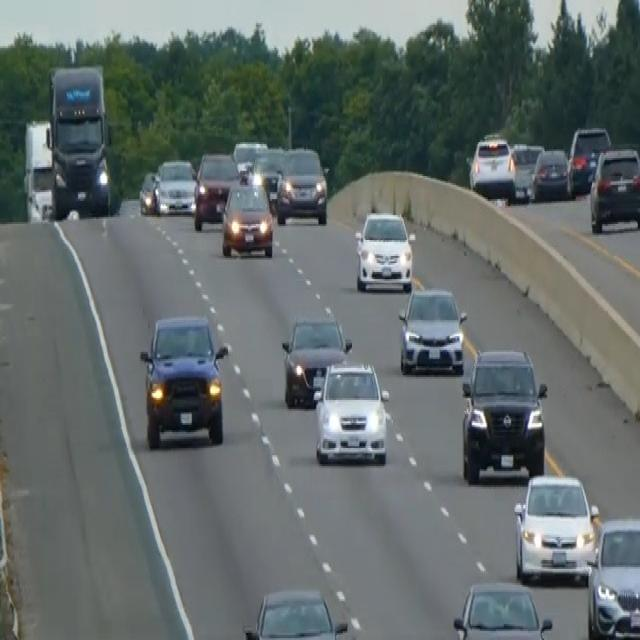car: (139, 311, 229, 450), (460, 345, 548, 483), (513, 471, 600, 585), (312, 359, 390, 466), (280, 313, 352, 407), (586, 516, 639, 638), (397, 285, 467, 375), (452, 578, 553, 638), (242, 585, 350, 638), (354, 208, 414, 292), (589, 144, 639, 233), (275, 144, 328, 226), (221, 180, 273, 258), (192, 150, 241, 230), (468, 133, 516, 201), (567, 124, 611, 196), (154, 157, 197, 215), (250, 146, 285, 208), (532, 146, 570, 201), (511, 141, 543, 199), (232, 137, 267, 178), (138, 169, 159, 215)
lorry: (46, 62, 115, 219)
